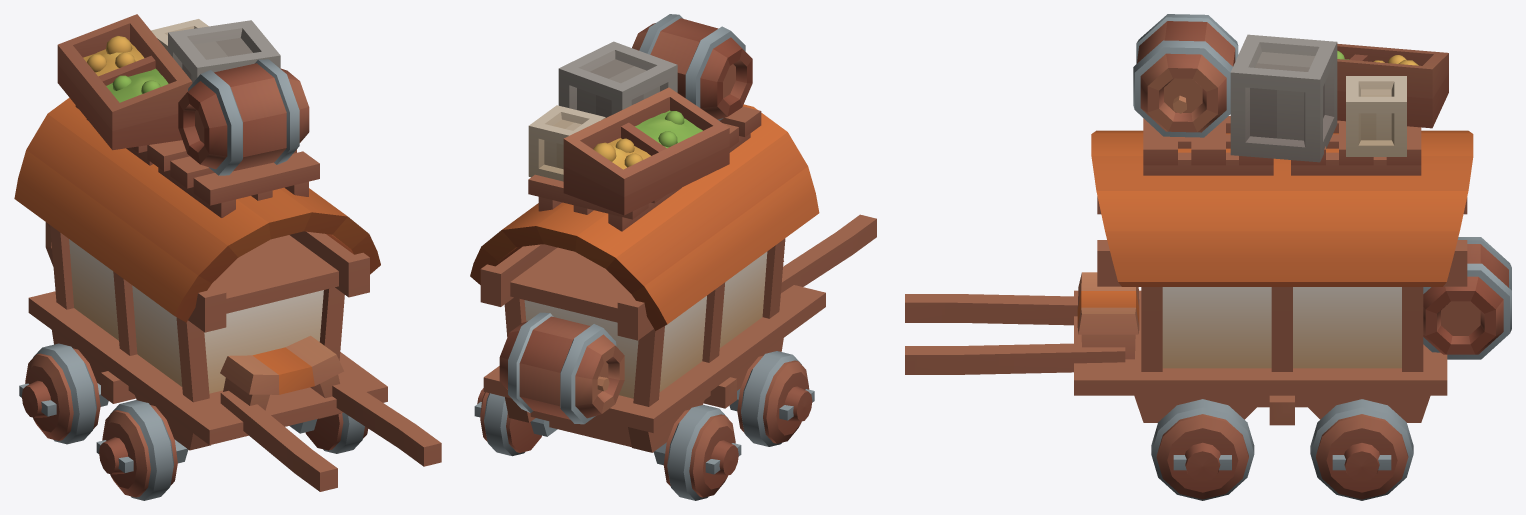
File: cart_merchant.glb
3 views of the same model, side by side, from view 1: azimuth 30°, elevation 25°; view 2: azimuth 150°, elevation 25°; view 3: azimuth 270°, elevation 25° (orthographic). The views are drawn at different scales.
Visible parts, largest first — view 1: cart_merchant, cart_marchant_axle_front, cart_merchant_axle_rear; view 2: cart_merchant, cart_merchant_axle_rear, cart_marchant_axle_front; view 3: cart_merchant, cart_merchant_axle_rear, cart_marchant_axle_front.
Boxes of the visible parts, x1,y1,x2,y2 form: cart_merchant: [14, 14, 441, 491]; cart_marchant_axle_front: [96, 400, 368, 500]; cart_merchant_axle_rear: [19, 343, 108, 444]; cart_merchant: [470, 14, 876, 452]; cart_merchant_axle_rear: [474, 388, 741, 500]; cart_marchant_axle_front: [729, 351, 814, 446]; cart_merchant: [905, 14, 1511, 425]; cart_merchant_axle_rear: [1310, 399, 1413, 500]; cart_marchant_axle_front: [1151, 399, 1254, 500].
Bounding box in the file's own units: 0.7078 × 1.06 × 1.4.
Materials: 1 (1 with a texture image).
